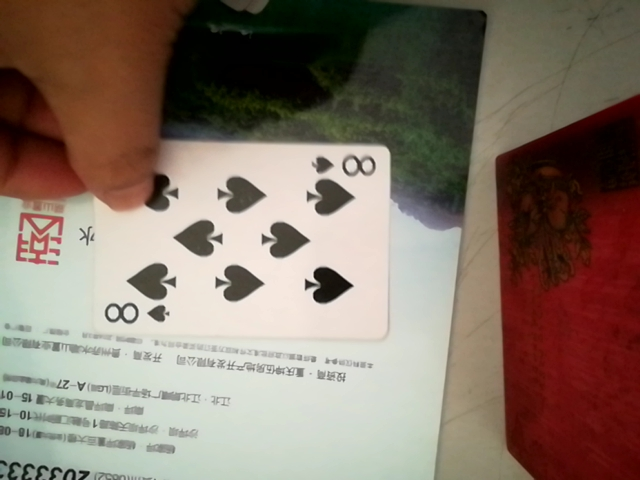ht 8: (79, 138, 393, 351)
